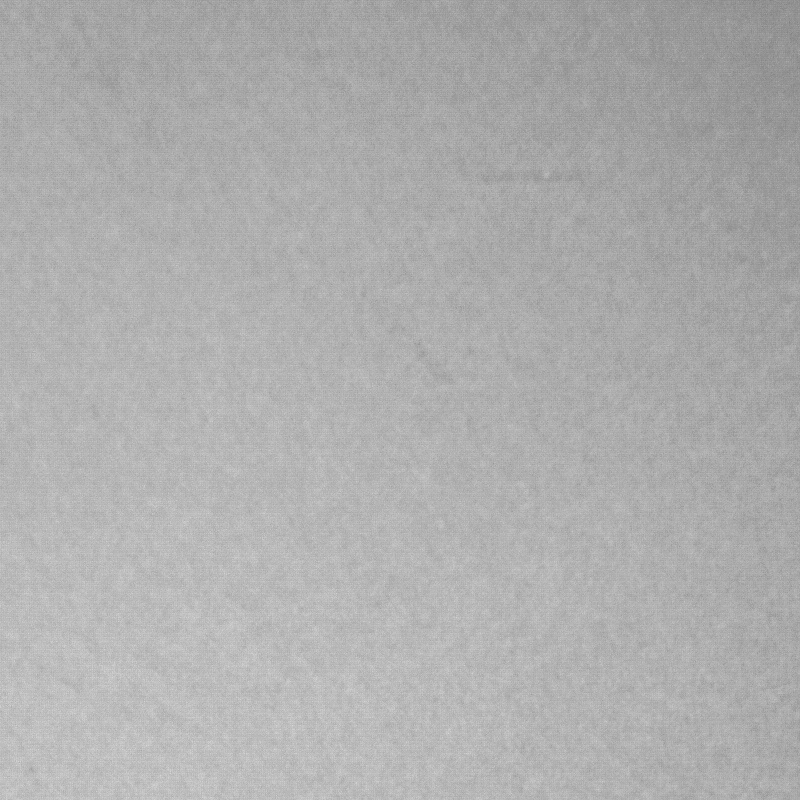defect: (480, 176, 574, 180)
